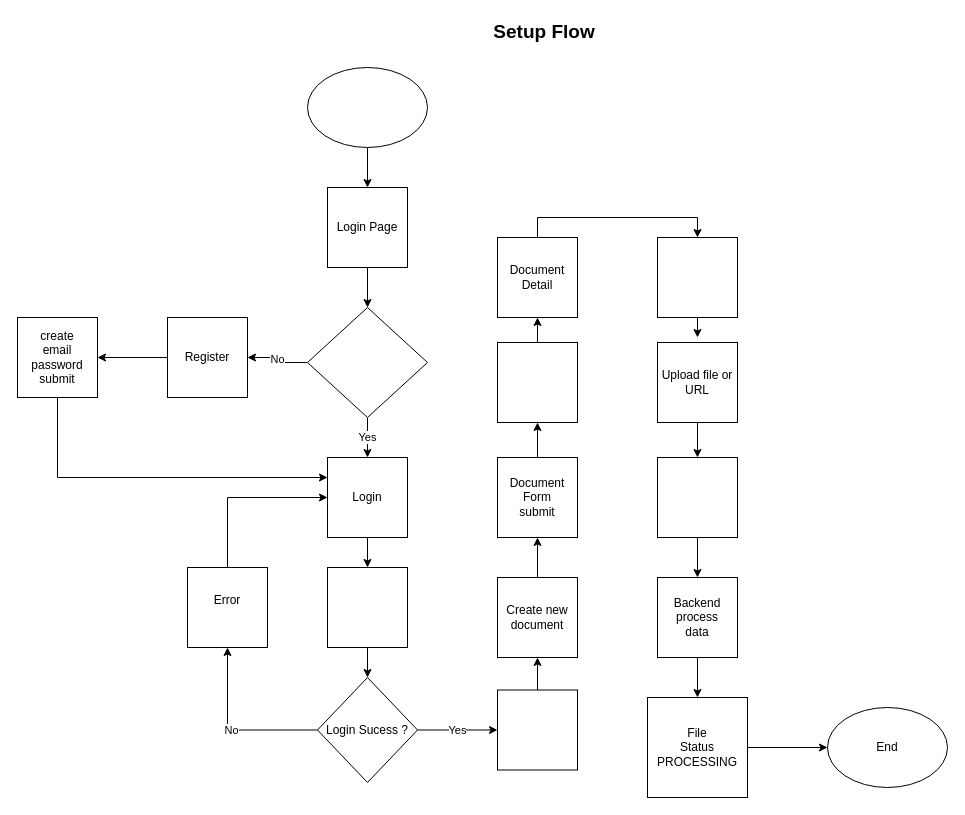
Image size: 965x815. Some labels were removed from this diagram. The shapes that lost their labels are listed below. From the top down, each one's box as (x1, y1, x2, y2) in pixels, then its label:
(306, 66, 428, 148): start
(656, 236, 738, 318): Add File
(306, 306, 428, 418): Have account ?
(496, 342, 578, 422): Document Create
(656, 456, 738, 538): File Submit
(326, 566, 408, 648): email password submit
(496, 689, 578, 770): Dashboard
